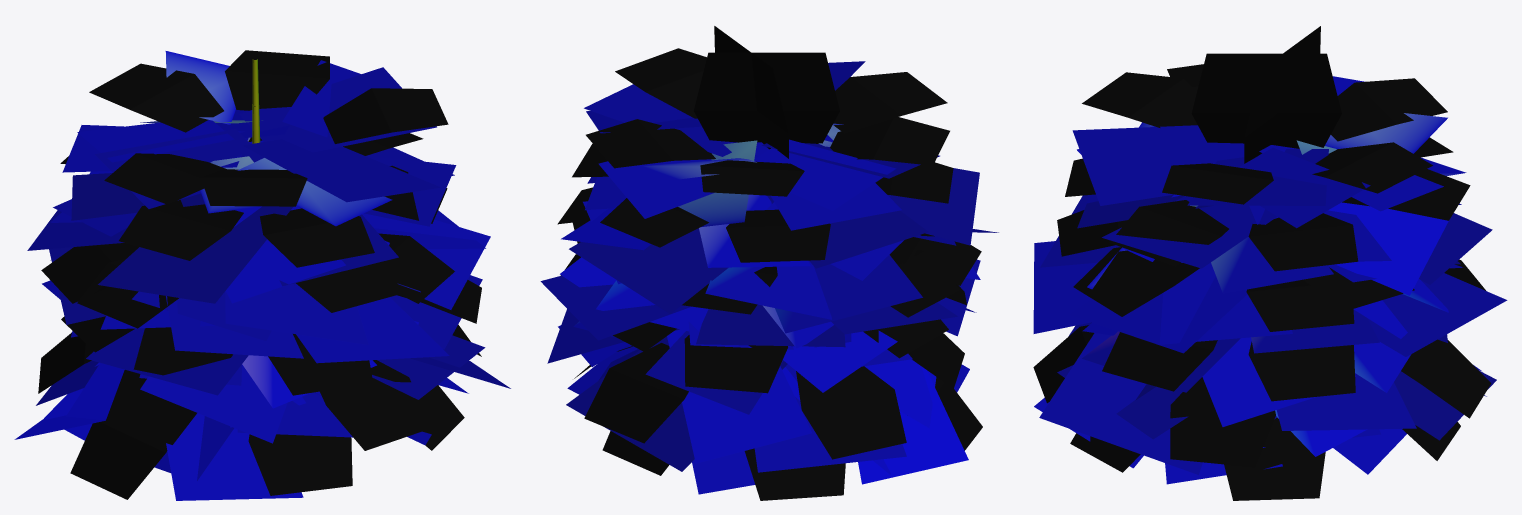
Rendered from tree_young_0.glb.
3 views of the same model, side by side, from view 1: azimuth 30°, elevation 25°; view 2: azimuth 150°, elevation 25°; view 3: azimuth 270°, elevation 25° (orthographic). The views are drawn at different scales.
Parts seen in each view (by area): view 1: lod1_young_0; view 2: lod1_young_0; view 3: lod1_young_0.
Boxes of the visible parts, x1,y1,x2,y2 form: lod1_young_0: (14,50,510,500); lod1_young_0: (540,26,998,500); lod1_young_0: (1033,26,1507,500).
Size of the model in its own units: 2.22 by 1.94 by 2.15.
